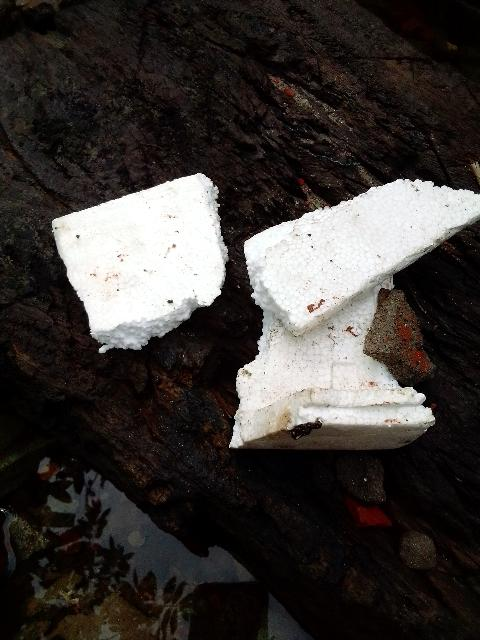cocksheet: (207, 140, 473, 464), (47, 142, 264, 347)
